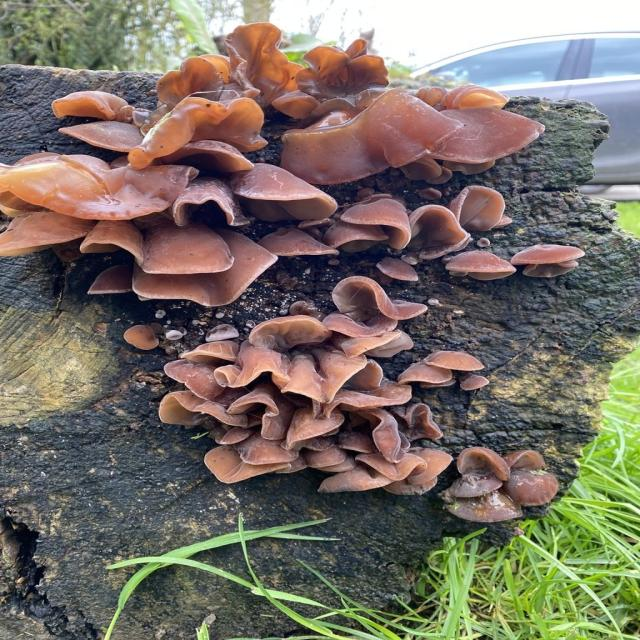Matang: (20, 20, 587, 302), (127, 304, 562, 526)
